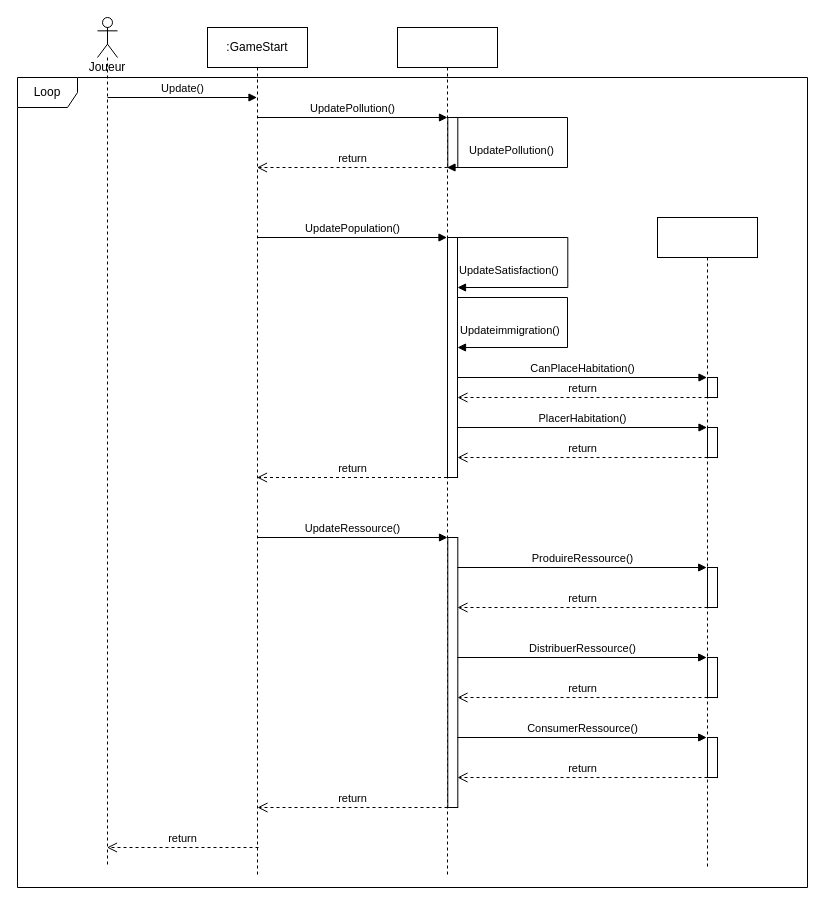
Some shapes in this 825 by 905 pixel diagram are drawn without their labels. The box of each missing label's shape, as (x1, y1, x2, y2) in pixels:
:Simulation: (396, 26, 498, 878)
Map: (656, 216, 758, 868)
